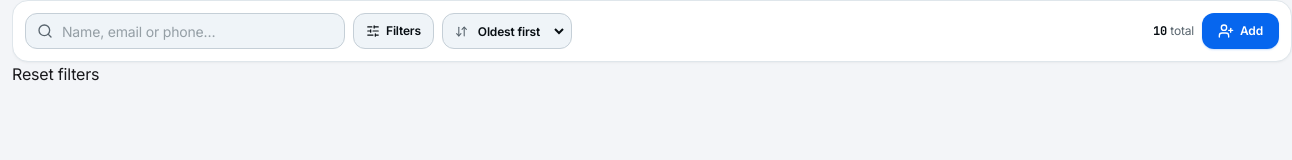
Test: FilterBar search › shows typing at once and hands the board the search once typing pauses
This screenshot has width=1292, height=160.
Type "a" into the search field with placeholder "Name, email or phone…".
click(185, 31); type("a")  # box [25, 13, 345, 49]
Wait 100 ms
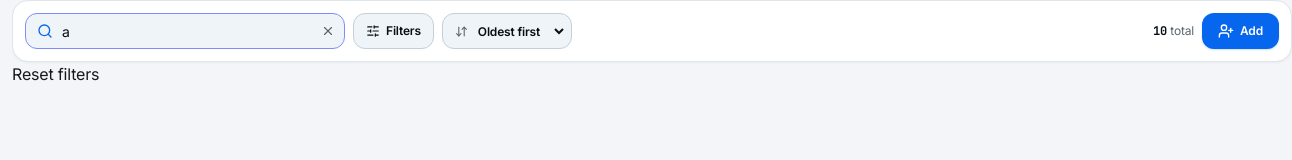
Replace the text in the search field with placeholder "Name, email or phone…" with "al" at (185, 31), box [25, 13, 345, 49]
Wait 100 ms
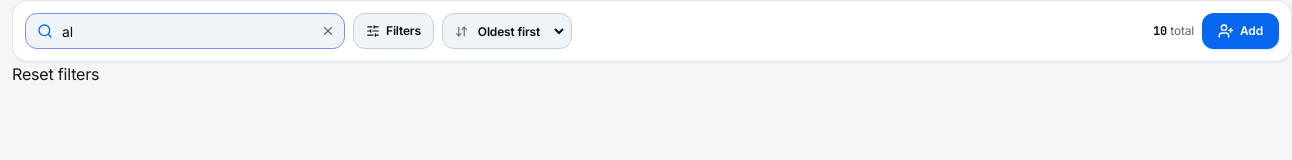
Replace the text in the search field with placeholder "Name, email or phone…" with "ali" at (185, 31), box [25, 13, 345, 49]
Wait 200 ms
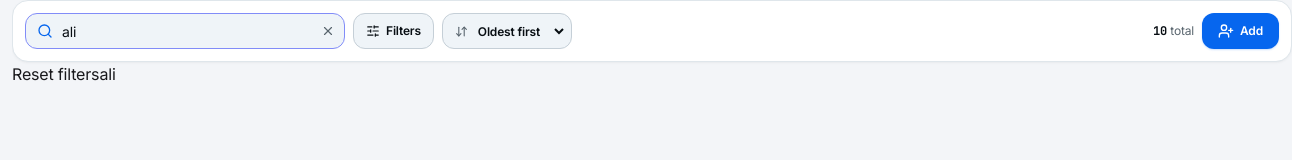
Result: the text with test id "board-search" reads "ali" at [99, 64, 116, 84]
